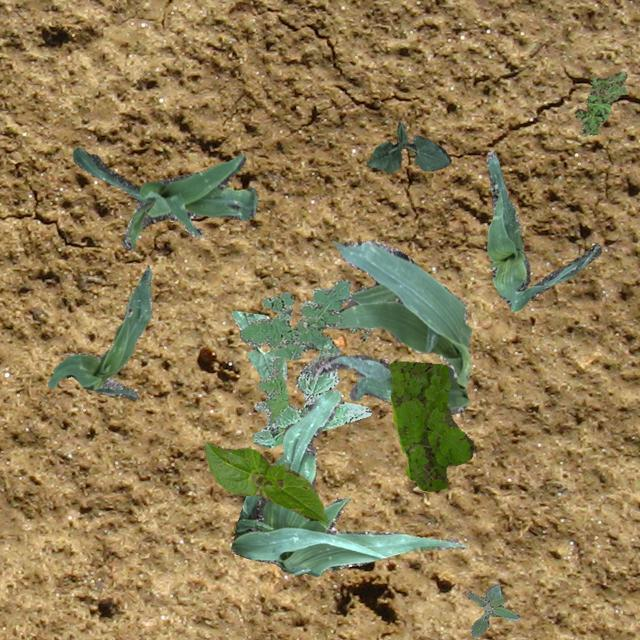crop: (230, 388, 466, 576), (310, 240, 470, 412), (71, 147, 256, 250), (486, 150, 600, 310), (48, 264, 150, 398), (204, 442, 326, 522), (366, 120, 450, 172), (230, 310, 286, 380)
weed: (238, 278, 349, 422), (252, 344, 371, 448), (388, 360, 472, 490), (574, 72, 626, 134), (466, 584, 518, 636), (348, 326, 370, 340)
